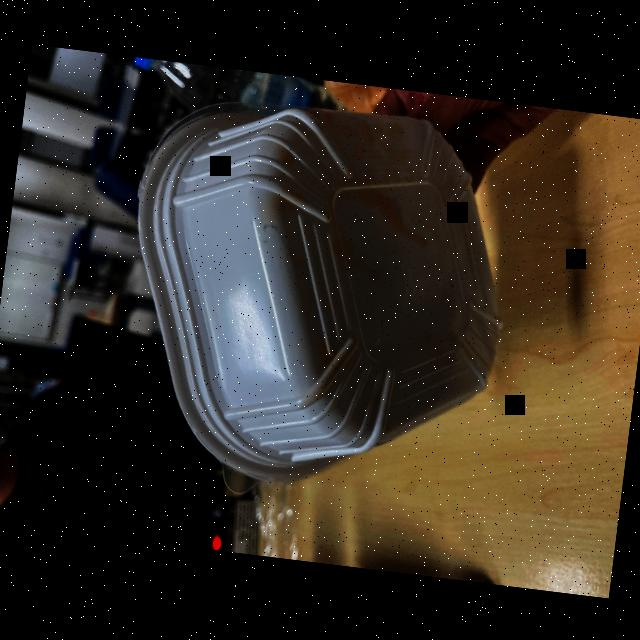plastic_box: (103, 66, 530, 515)
